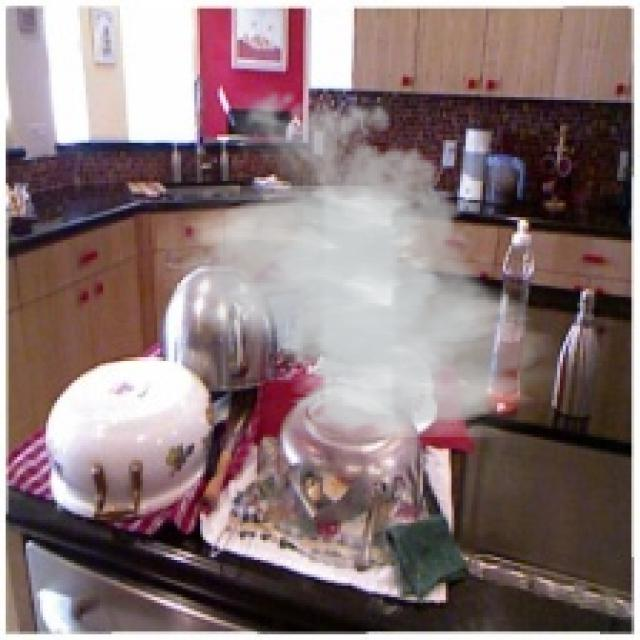smoke: (157, 80, 560, 437)
